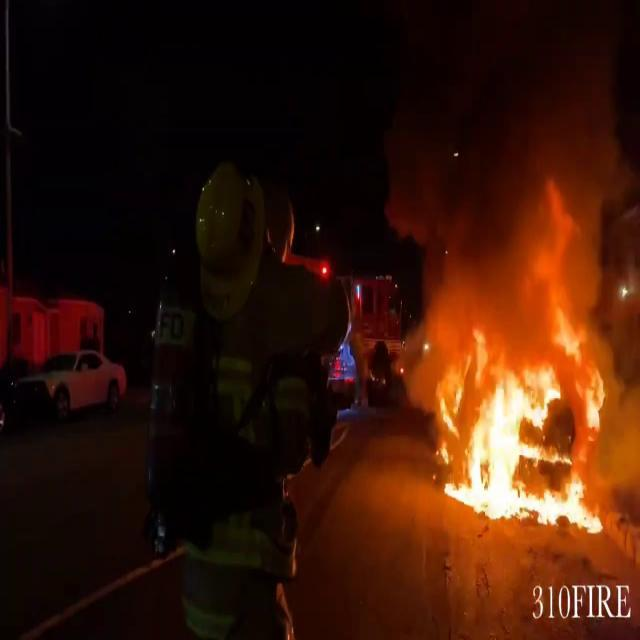Fire: (437, 266, 619, 530)
Smoke: (382, 2, 638, 330)
